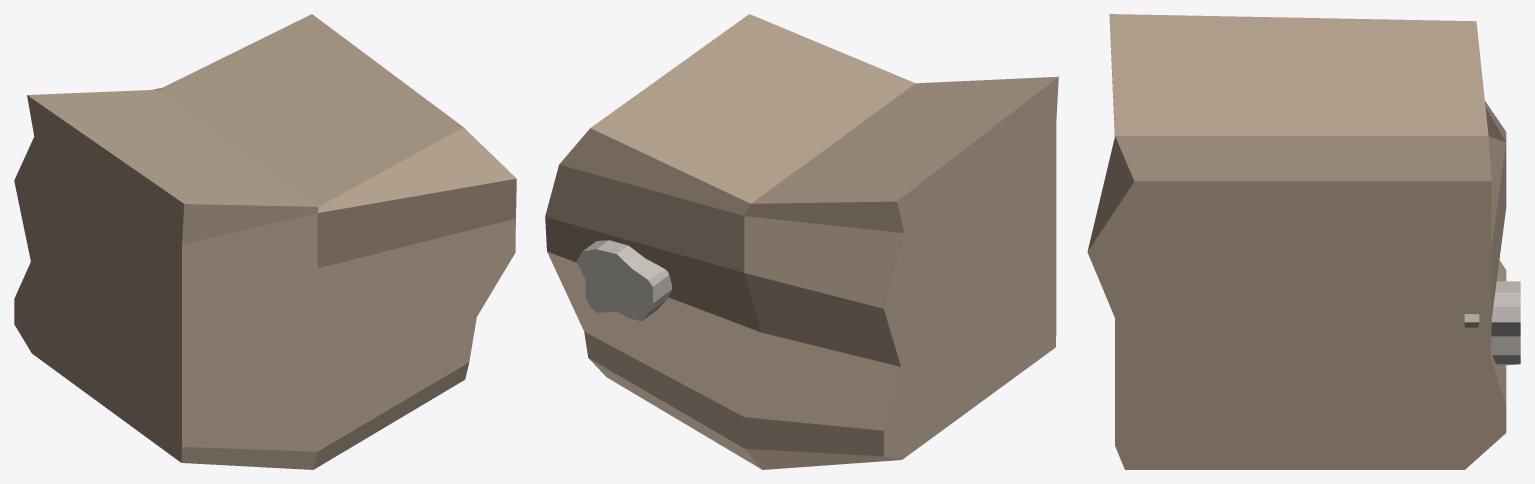
Rendered from RightDirt.fbx.
3 views of the same model, side by side, from view 1: azimuth 30°, elevation 25°; view 2: azimuth 150°, elevation 25°; view 3: azimuth 270°, elevation 25° (orthographic). The views are drawn at different scales.
Visible parts, largest first — view 1: polySurface118; view 2: polySurface118; view 3: polySurface118.
Part boxes in pixels (bbox=[...]): polySurface118: bbox=[14, 14, 516, 469]; polySurface118: bbox=[545, 14, 1058, 469]; polySurface118: bbox=[1087, 14, 1520, 469].
Size of the model in its own units: 2.31 by 2 by 2.21.
